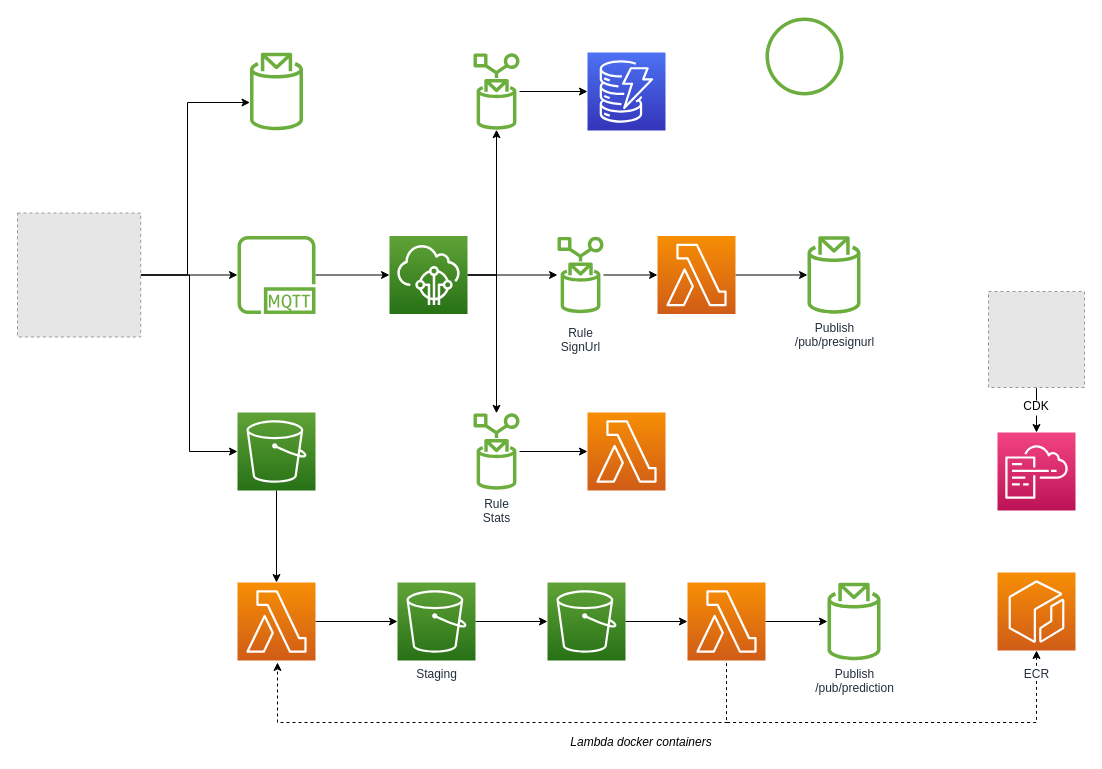
The diagram is 1102 pixels wide and 769 high, and some of its shapes have lost their labels. Grey dashed boxes stand in for pictures. The shapes that lost their labels are listed below. From the top down, each one's centre as x and y in pixels, then its label:
At pixel 626 451: "Lambda Stats".
At pixel 1036 471: "Cloudformation".
At pixel 586 621: "Final".
At pixel 726 621: "Lambda Inference".
